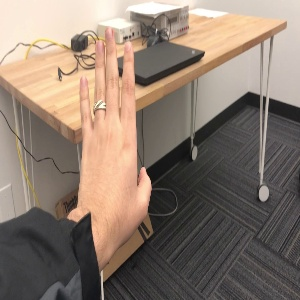hand: (79, 27, 151, 218)
